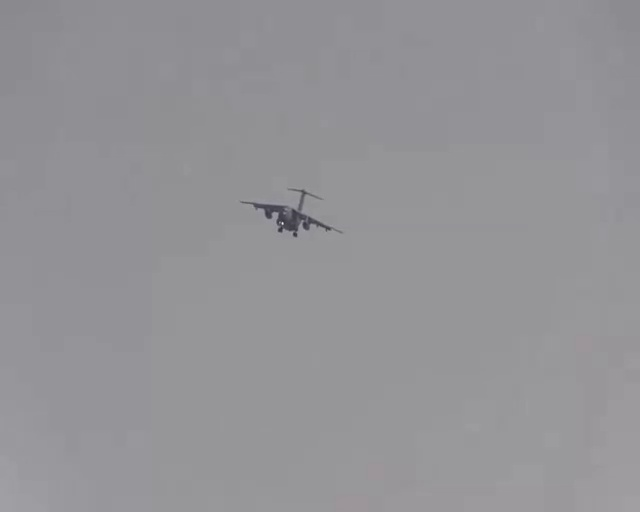AIRPLANE: (238, 186, 344, 237)
